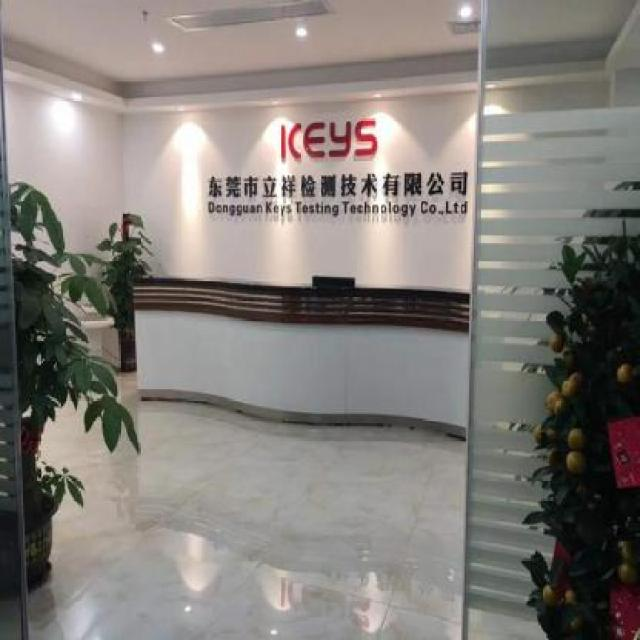frontdesk: (128, 264, 478, 443)
